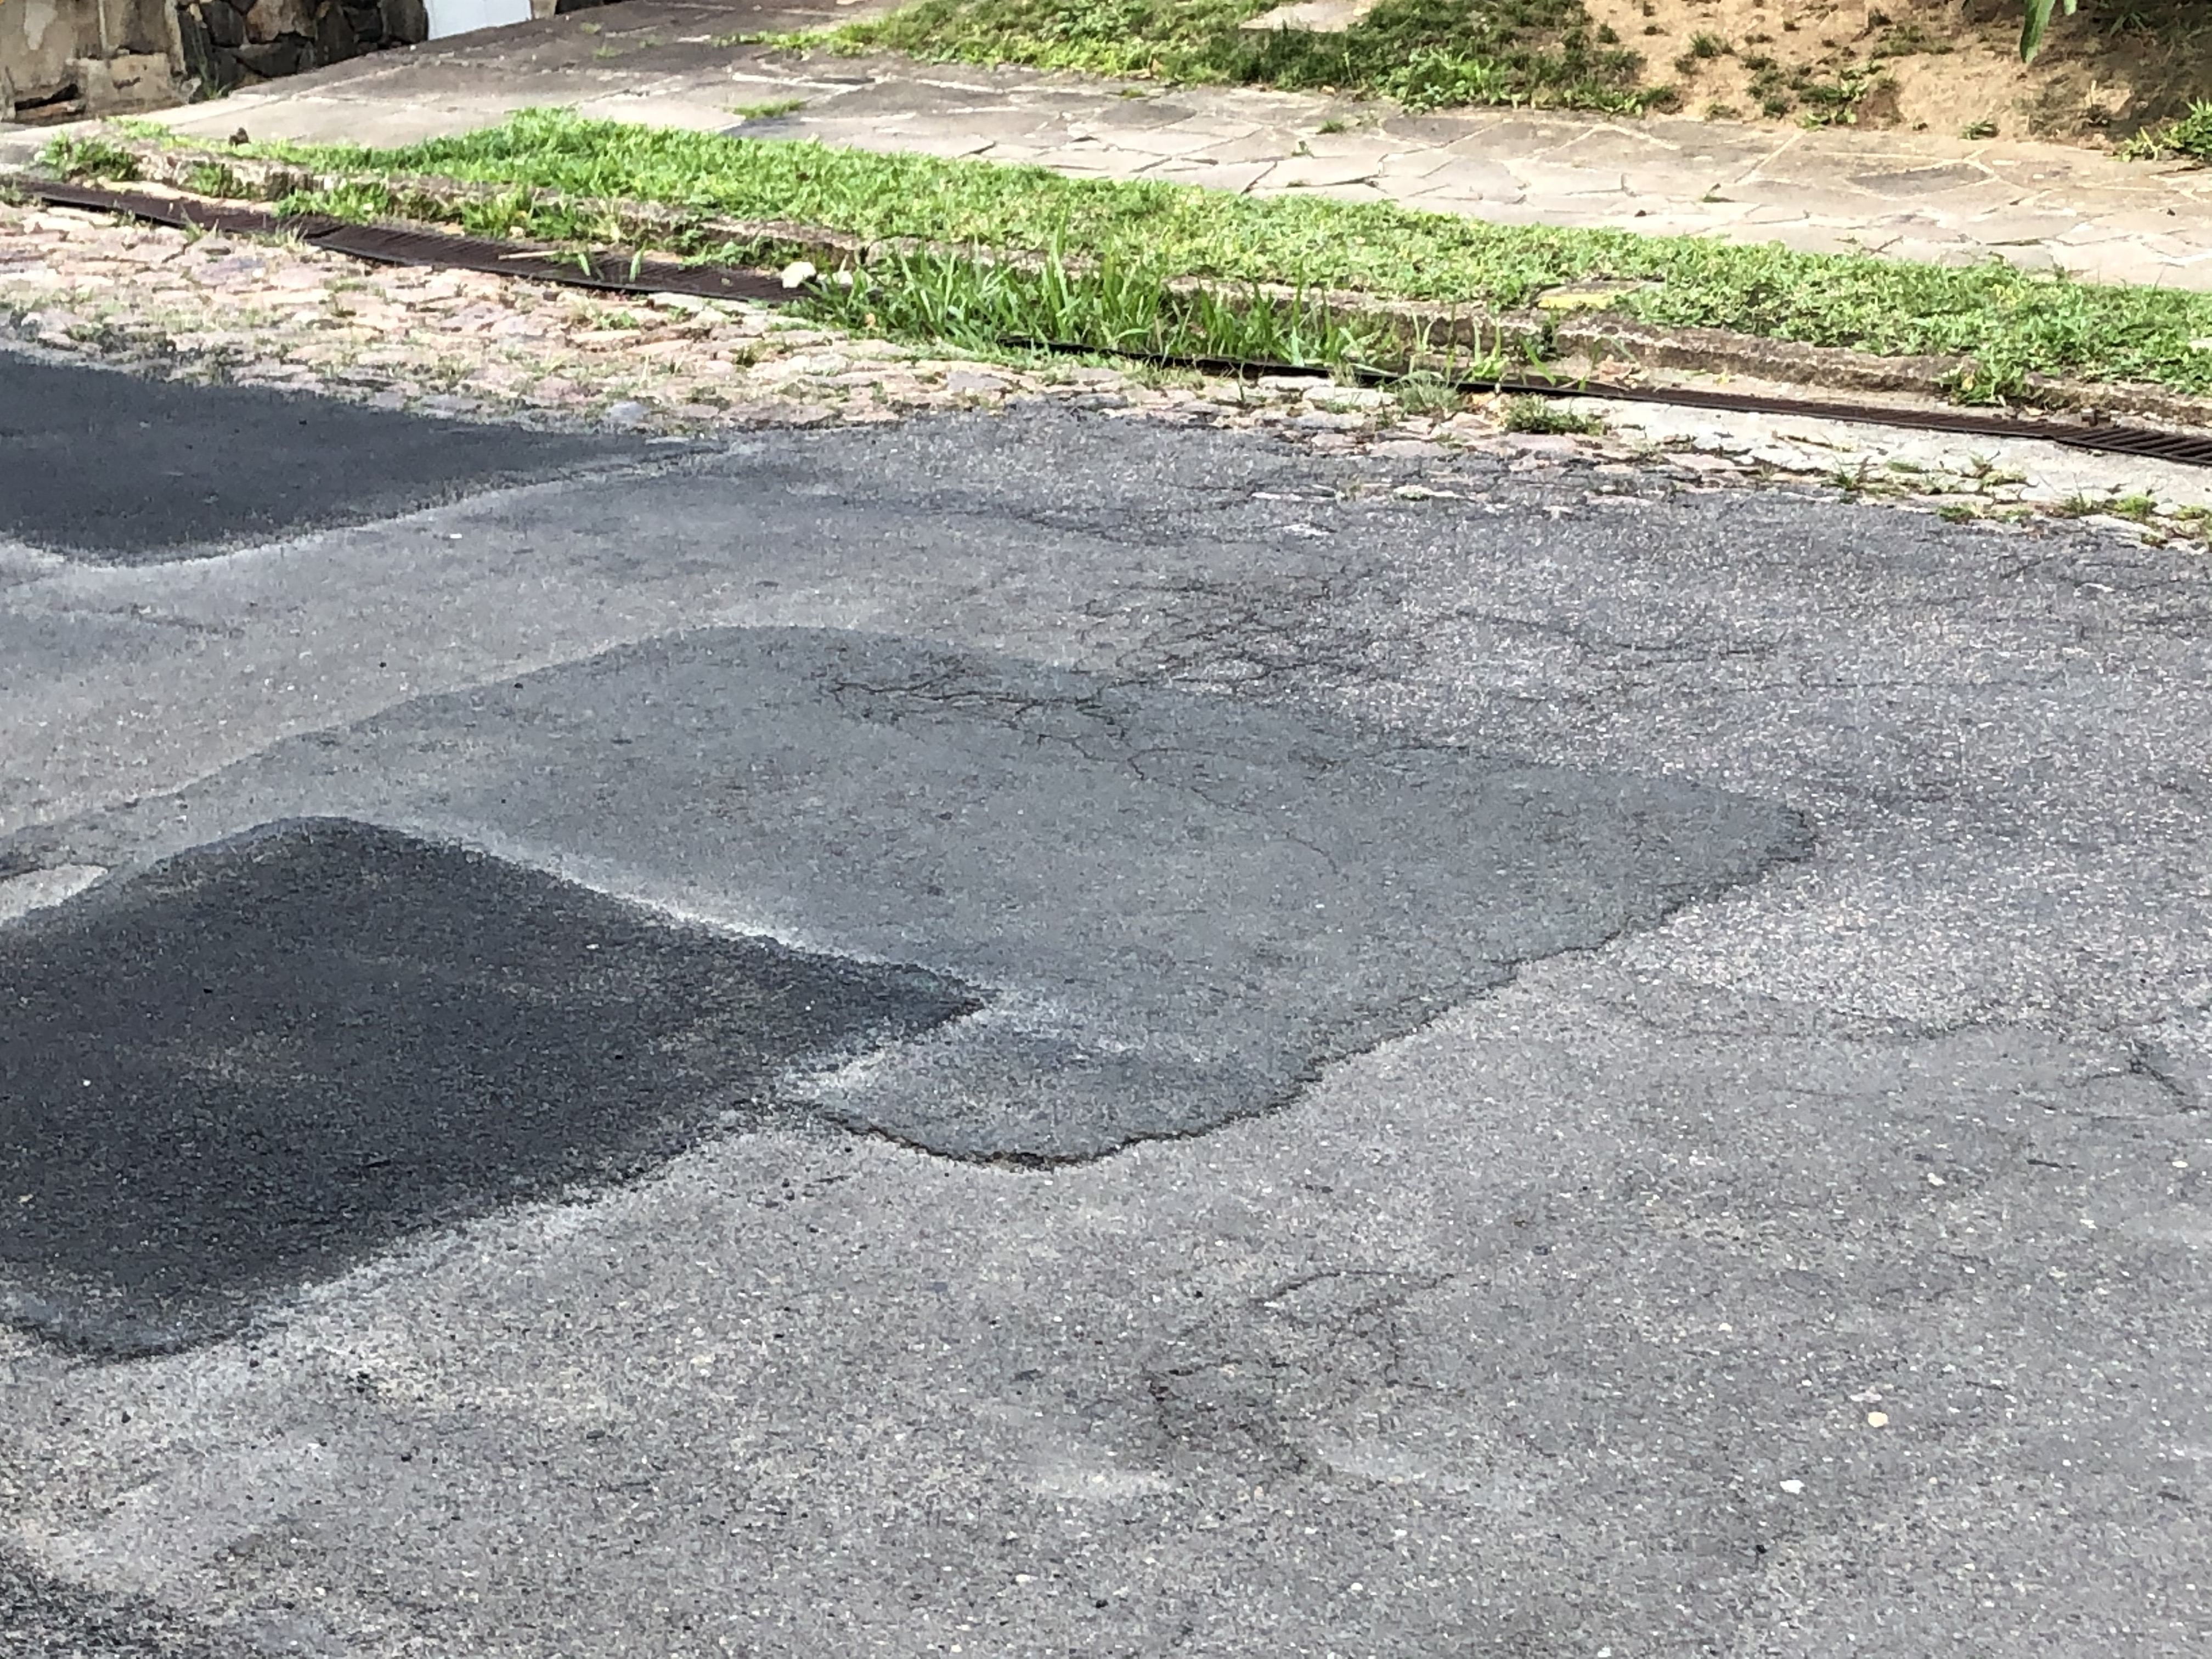vag39: (24, 2, 2212, 655)
